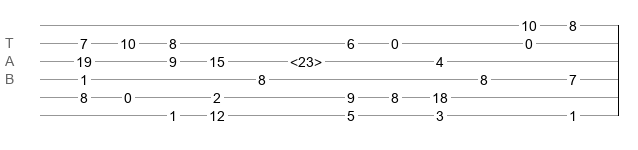0: (124, 90, 132, 100), (391, 36, 399, 46), (525, 36, 533, 46)
1: (80, 72, 88, 82), (169, 108, 177, 118), (569, 108, 577, 118)
10: (120, 36, 136, 46), (521, 18, 537, 28)
12: (209, 108, 225, 118)
15: (209, 54, 225, 64)
18: (432, 90, 448, 100)
19: (76, 54, 92, 64)
2: (213, 90, 221, 100)
3: (436, 108, 444, 118)
4: (436, 54, 444, 64)
5: (347, 108, 355, 118)
6: (347, 36, 355, 46)
7: (80, 36, 88, 46), (569, 72, 577, 82)
8: (80, 90, 88, 100), (169, 36, 177, 46), (258, 72, 266, 82), (391, 90, 399, 100), (480, 72, 488, 82), (569, 18, 577, 28)
9: (169, 54, 177, 64), (347, 90, 355, 100)
harmonic: (290, 54, 322, 64)
